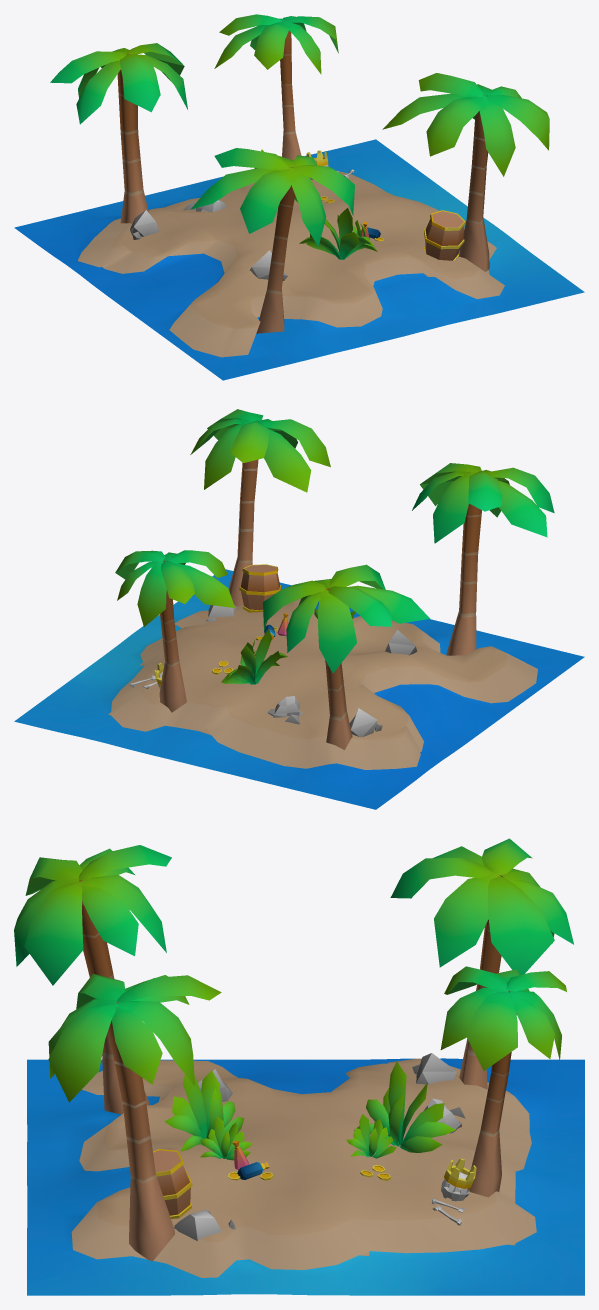
Rendered from Island.gltf.
3 views of the same model, one above another, from view 1: azimuth 30°, elevation 25°; view 2: azimuth 150°, elevation 25°; view 3: azimuth 270°, elevation 25° (orthographic). The views are drawn at different scales.
Parts seen in each view (by area): view 1: Plane.001, coco30, coco31, coco31.001, coco27.001, Barrel_Closed.001, tree129.003, Stone_13.001; view 2: Plane.001, coco31, coco31.001, coco30, coco27.001, Barrel_Closed.001, tree129.001, Stone_13.001, Stone_9.001; view 3: Plane.001, coco30, coco31, coco31.001, coco27.001, tree129.001, tree129.003, Barrel_Closed.001, tree129.004, tree129.002, Stone_16.001, Stone_13.001 (+1 smaller).
Boxes of the visible parts, x1,y1,x2,y2 form: Plane.001: [14, 139, 584, 380]; coco30: [382, 73, 549, 271]; coco31: [190, 148, 354, 333]; coco31.001: [50, 43, 187, 223]; coco27.001: [214, 14, 338, 160]; Barrel_Closed.001: [424, 210, 465, 260]; tree129.003: [299, 207, 377, 259]; Stone_13.001: [130, 210, 159, 239]; Plane.001: [14, 569, 584, 809]; coco31: [412, 463, 554, 655]; coco31.001: [263, 564, 430, 749]; coco30: [190, 409, 330, 606]; coco27.001: [115, 550, 234, 712]; Barrel_Closed.001: [239, 564, 281, 612]; tree129.001: [221, 629, 288, 684]; Stone_13.001: [349, 708, 382, 737]; Stone_9.001: [267, 696, 302, 724]; Plane.001: [27, 1058, 584, 1295]; coco30: [48, 973, 221, 1261]; coco31: [14, 845, 171, 1114]; coco31.001: [390, 838, 573, 1089]; coco27.001: [440, 966, 566, 1197]; tree129.001: [354, 1061, 455, 1152]; tree129.003: [164, 1070, 244, 1151]; Barrel_Closed.001: [153, 1149, 192, 1218]; tree129.004: [346, 1114, 396, 1158]; tree129.002: [200, 1115, 252, 1160]; Stone_16.001: [174, 1209, 235, 1241]; Stone_13.001: [412, 1053, 456, 1084].
Bounding box in the file's own units: 10 × 5.71 × 10.24.
1 material, 1 textured.
